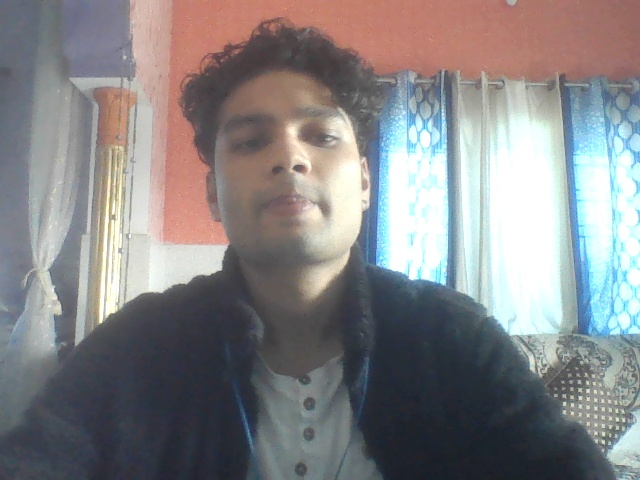real: (192, 15, 381, 283)
